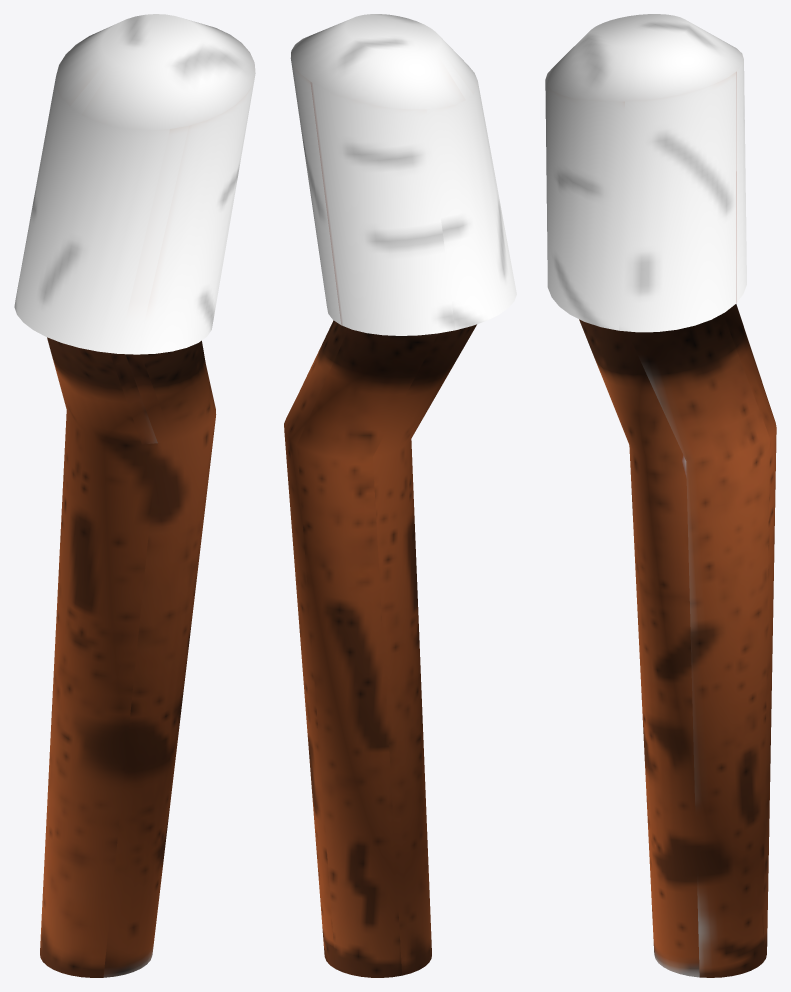
The model's file is TorchV2.fbx.
The picture shows the model from 3 angles, left to right: view 1: azimuth 30°, elevation 25°; view 2: azimuth 150°, elevation 25°; view 3: azimuth 270°, elevation 25°; orthographic projection. The views are drawn at different scales.
Parts seen in each view (by area): view 1: Torch; view 2: Torch; view 3: Torch.
Part boxes in pixels (box(x1,y1,x2,y2)): Torch: box(14, 14, 255, 977); Torch: box(284, 14, 516, 977); Torch: box(545, 14, 776, 977).
Bounding box in the file's own units: 46.8 × 198 × 44.17.
